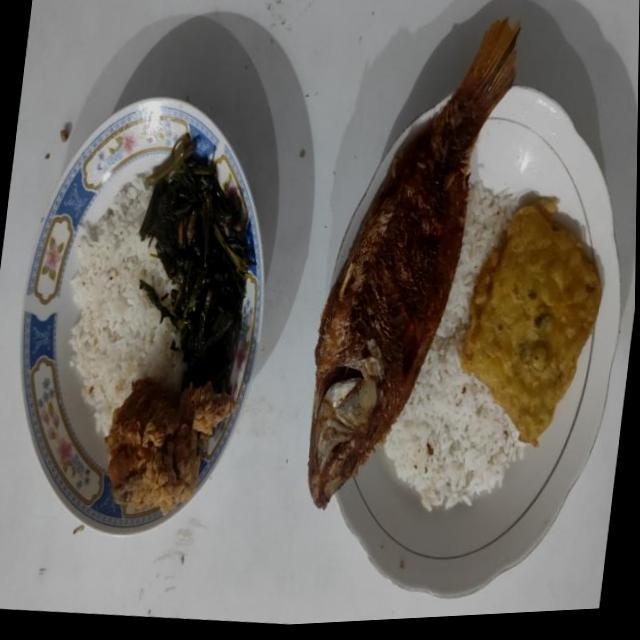ikan_mujair: (307, 19, 518, 508)
nasi_putih: (378, 181, 524, 510), (70, 176, 184, 435)
tumis_kangkung: (139, 134, 255, 390)
